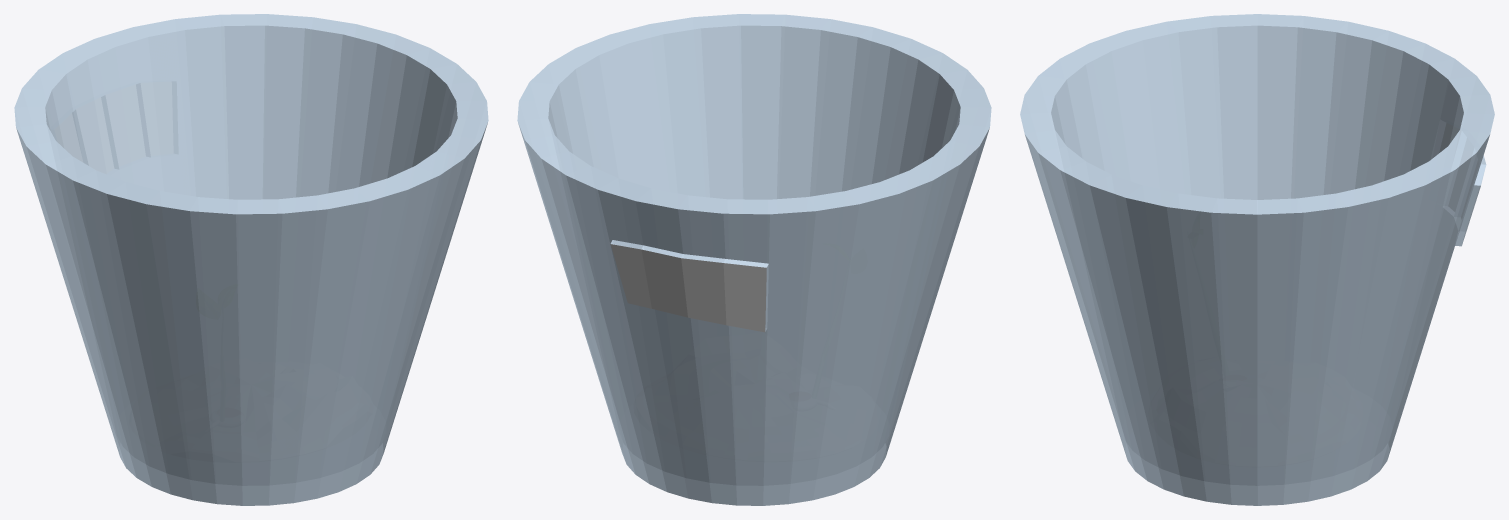
Rendered from planta1.glb.
3 views of the same model, side by side, from view 1: azimuth 30°, elevation 25°; view 2: azimuth 150°, elevation 25°; view 3: azimuth 270°, elevation 25° (orthographic).
Parts seen in each view (by area): view 1: Cilindro; view 2: Cilindro; view 3: Cilindro.
Boxes of the visible parts, x1=… form: Cilindro: x1=14, y1=14, x2=488, y2=505; Cilindro: x1=517, y1=14, x2=991, y2=505; Cilindro: x1=1020, y1=14, x2=1494, y2=505.
Size of the model in its own units: 4.14 by 3.24 by 4.14.
